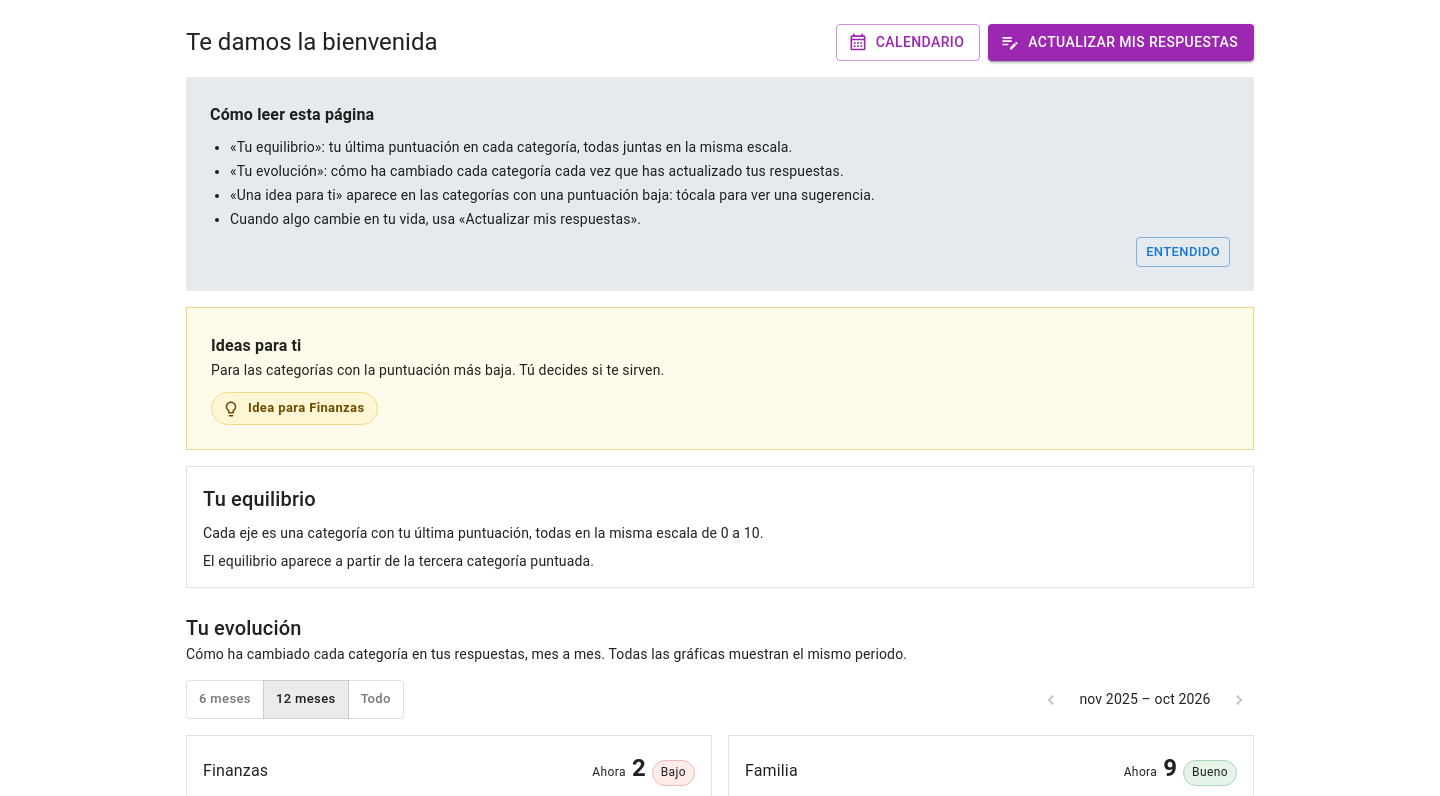
Home (RF-39 / RF-14) › resumen de ideas (UX-02) › con recomendaciones abiertas, las resume arriba con un botón por categoría que abre la idea
Click the button "Idea para Finanzas" at (294, 409), box [211,392,378,425]
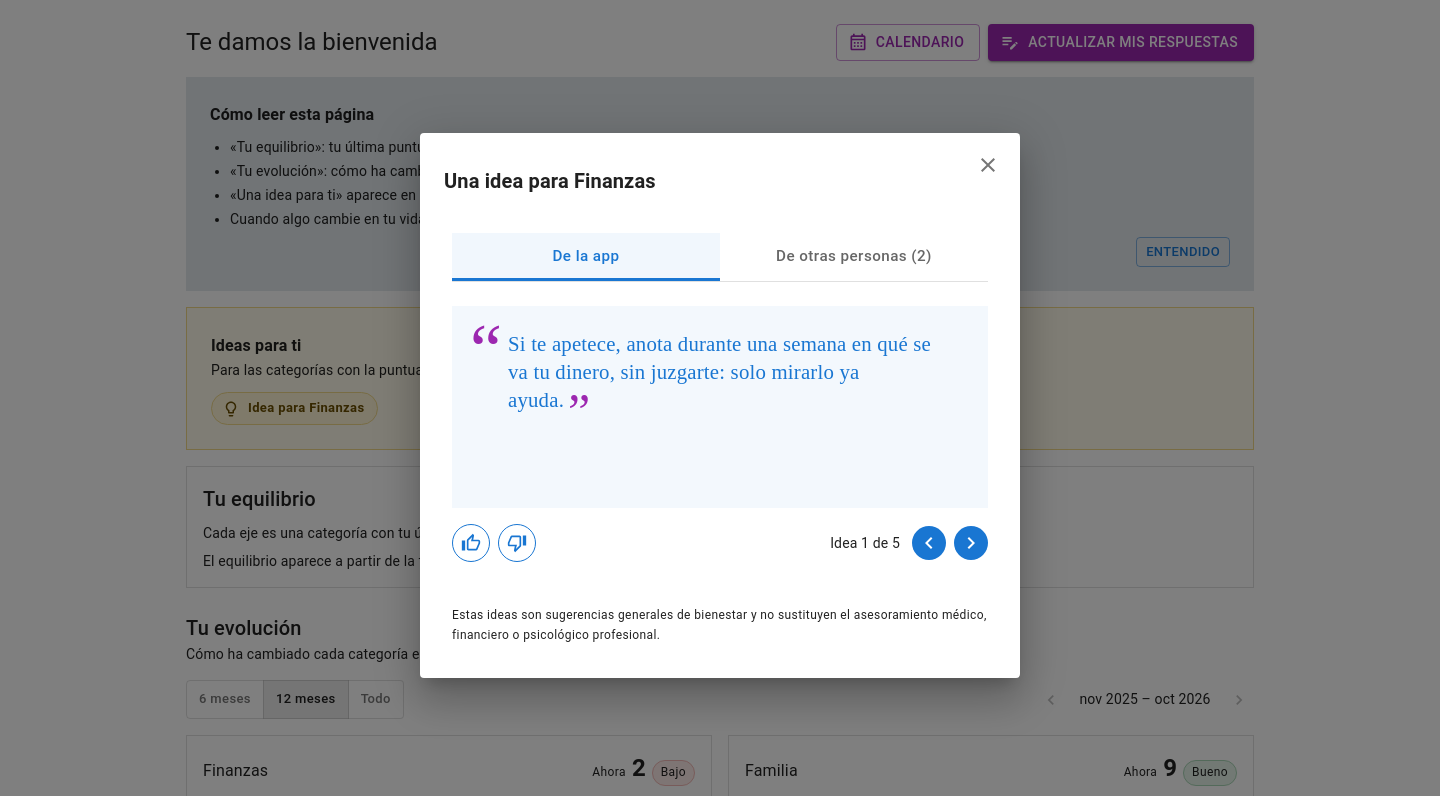
Expected: the text "en qué se va tu dinero" is shown, [508,332,931,411]
Expected: the text "no sustituyen el asesoramiento" is shown, [452,608,987,642]
